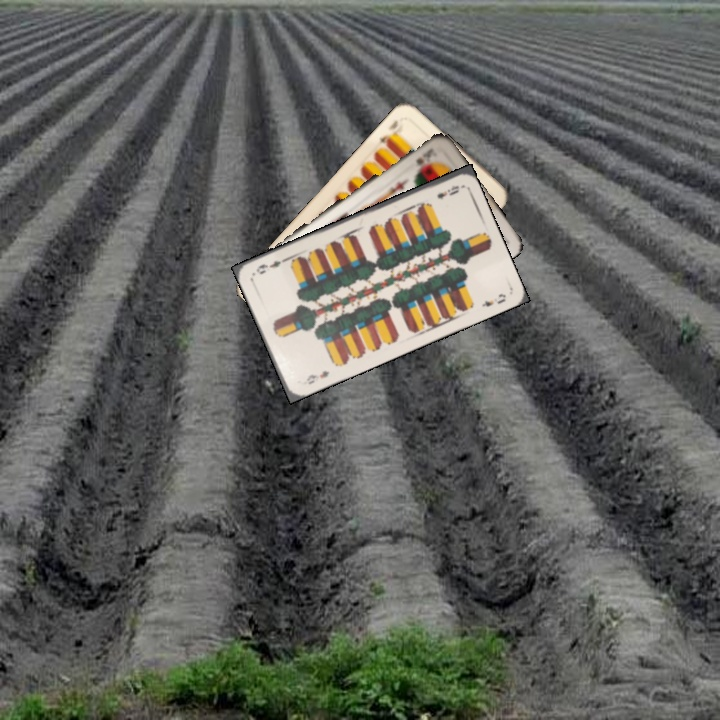E10: (374, 116, 401, 148)
E9: (302, 366, 332, 387), (433, 181, 462, 202)
SK: (412, 148, 435, 169)
